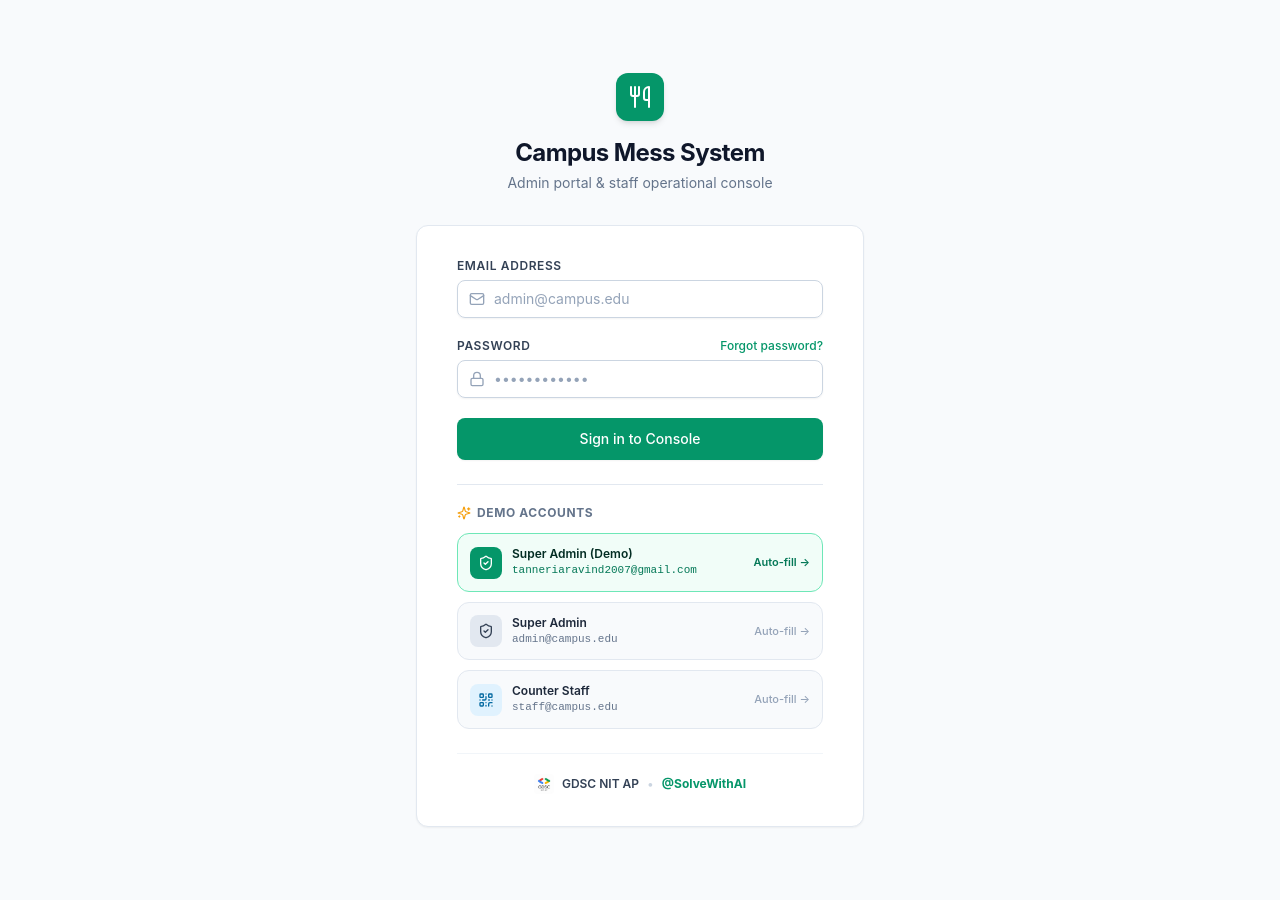
Scenario: LoginPage Demo Login & Mock Password Reset Workflow › Mock Password Reset Workflow › opens reset modal when Forgot password? is clicked
This screenshot has width=1280, height=900.
Click the button "Forgot password?" at (772, 346), box [720,338,823,354]
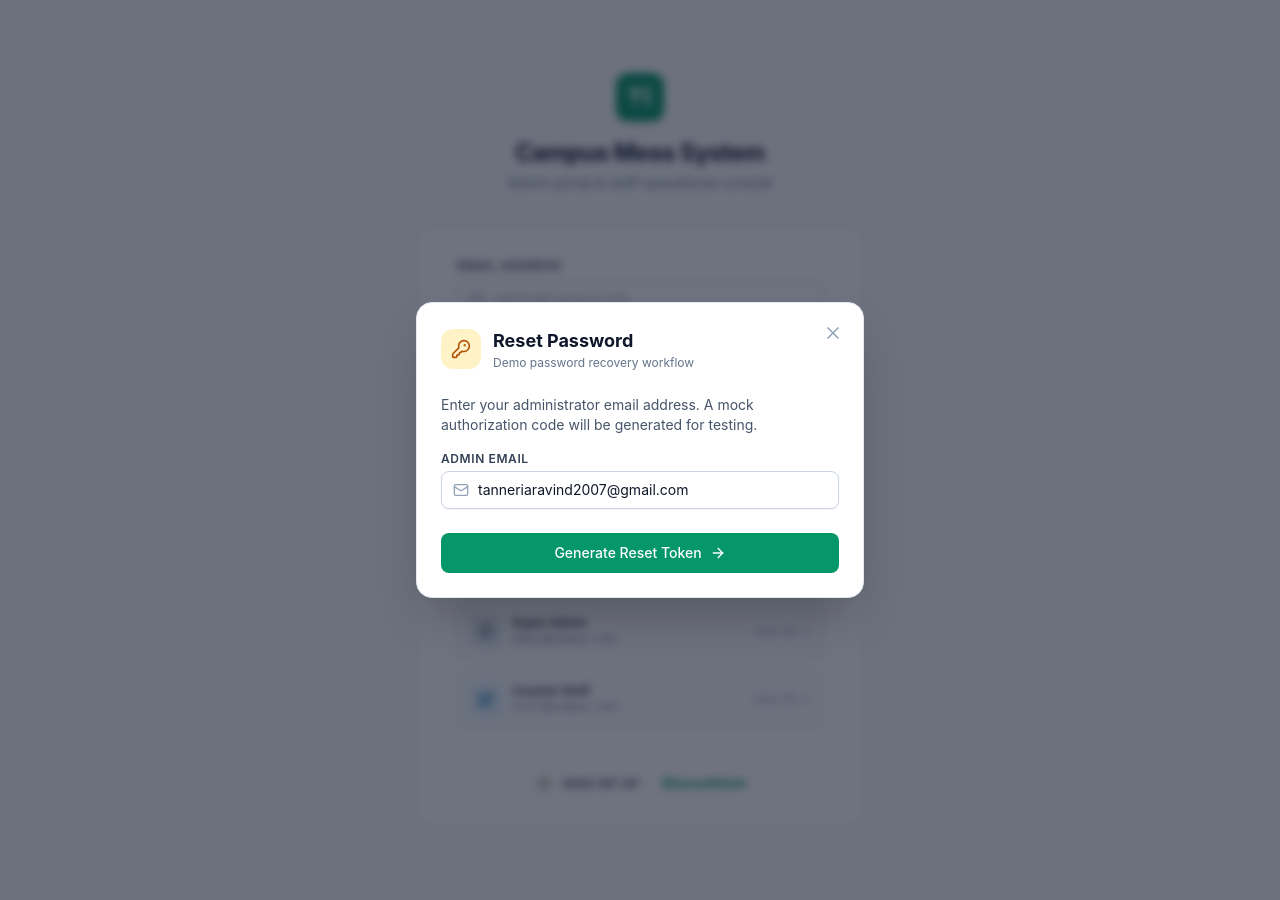
Expected: the heading "Reset Password" is shown, [493,330,633,351]
Expected: the text "Demo password recovery workflow" is shown, [493,355,694,371]
Expected: the button "Generate Reset Token" is shown, [441,533,839,573]
